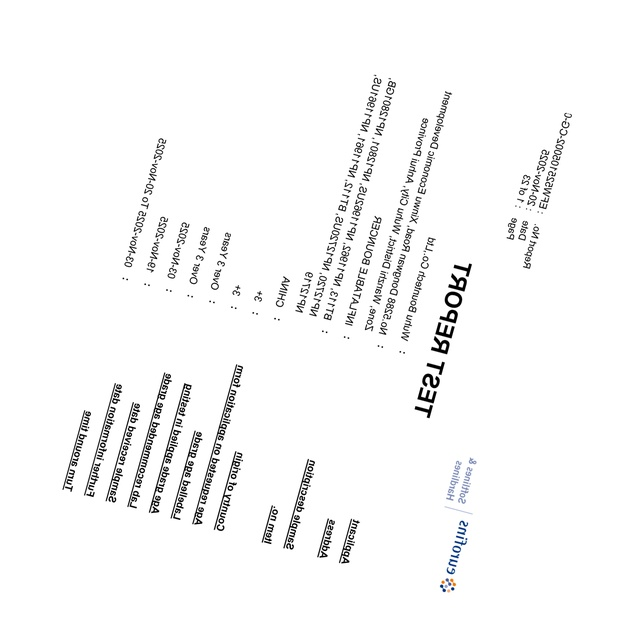eurofins: (438, 515, 478, 600)
